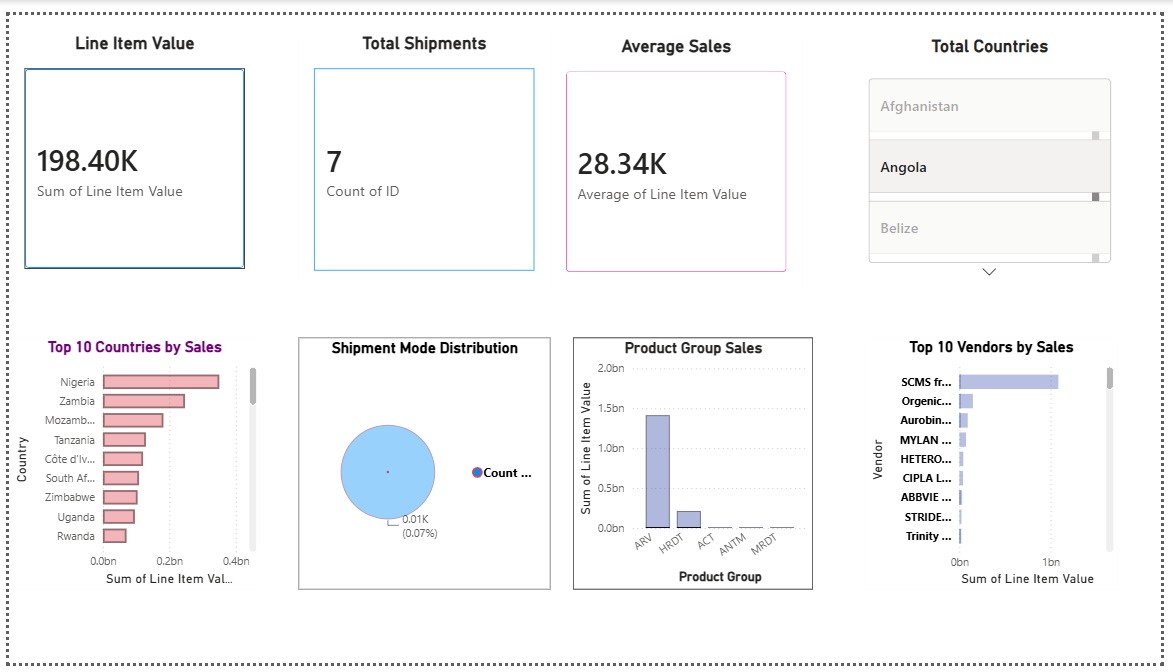

Layout of this report page (visuals, bound fields, positions):
{"tool":"powerbi","page":{"name":"Page 1","canvas":[1280,720],"ordinal":0},"visuals":[{"type":"cardVisual","title":"Line Item Value","fields":{"Data":["Sum(cleaned_supply_chain.Line Item Value)"]},"box":[0,20.8,279.7,279.7],"z":0},{"type":"cardVisual","title":"Total Shipments","fields":{"Data":["CountNonNull(cleaned_supply_chain.ID)"]},"box":[321.3,20.8,279.7,281.6],"z":1000},{"type":"cardVisual","title":"Average Sales","fields":{"Data":["Avg(cleaned_supply_chain.Line Item Value)"]},"box":[600.9,22.7,279.7,279.7],"z":2000},{"type":"cardVisual","title":"Total Countries","fields":{"Rows":["cleaned_supply_chain.Country"]},"box":[950.6,22.7,279.7,277.8],"z":3000},{"type":"clusteredBarChart","title":"Top 10 Countries by Sales","fields":{"Category":["cleaned_supply_chain.Country"],"Y":["Sum(cleaned_supply_chain.Line Item Value)"]},"box":[0,359.1,279.7,279.7],"z":4000},{"type":"pieChart","title":"Shipment Mode Distribution","fields":{"Y":["CountNonNull(cleaned_supply_chain.ID)"]},"box":[321.3,359.1,279.7,279.7],"z":5000},{"type":"clusteredColumnChart","title":"Product Group Sales","fields":{"Category":["cleaned_supply_chain.Product Group"],"Y":["Sum(cleaned_supply_chain.Line Item Value)"]},"box":[627.4,359.1,266.5,279.7],"z":5001},{"type":"barChart","title":"Top 10 Vendors by Sales","fields":{"Category":["cleaned_supply_chain.Vendor"],"Y":["Sum(cleaned_supply_chain.Line Item Value)"]},"box":[951,359,280,280],"z":5002}]}

Visuals, with their boxes in screenshot pixels (x1, y1, x2, y2), scaled from the page's 1280x720 canvas onto the 1173x672 screenshot:
"Line Item Value" cardVisual: 0,19,256,280
"Total Shipments" cardVisual: 294,19,551,282
"Average Sales" cardVisual: 551,21,807,282
"Total Countries" cardVisual: 871,21,1127,280
"Top 10 Countries by Sales" clusteredBarChart: 0,335,256,596
"Shipment Mode Distribution" pieChart: 294,335,551,596
"Product Group Sales" clusteredColumnChart: 575,335,819,596
"Top 10 Vendors by Sales" barChart: 872,335,1128,596
